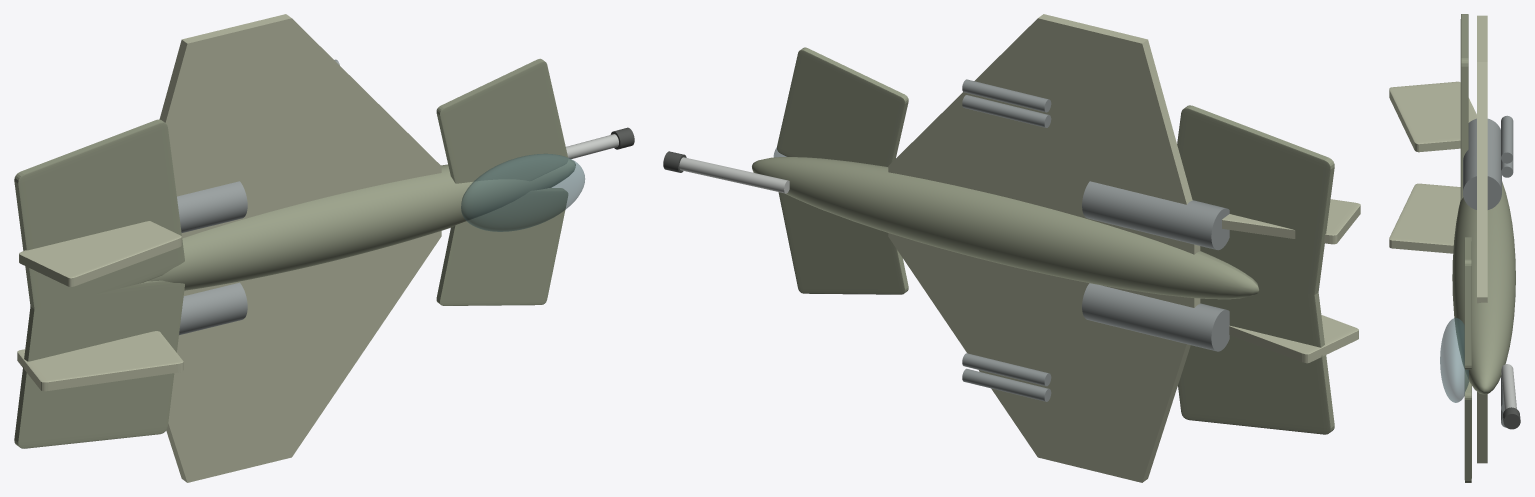
File: v-x04-vanguard-aero-lod1.glb
The picture shows the model from 3 angles, left to right: view 1: azimuth 30°, elevation 25°; view 2: azimuth 150°, elevation 25°; view 3: azimuth 270°, elevation 25°; orthographic projection. The views are drawn at different scales.
Parts seen in each view (by area): view 1: combat_main_wing, combat_fuselage, combat_tailplane_1, combat_tailplane_-1, canard_1, canard_-1, combat_canopy, combat_fin_-1, combat_fin_1, combat_engine_1, combat_engine_0, combat_gun_barrel_0; view 2: combat_main_wing, combat_fuselage, combat_tailplane_1, combat_tailplane_-1, canard_1, canard_-1, combat_engine_0, combat_engine_1, combat_fin_-1, combat_fin_1, combat_gun_barrel_0, combat_-1_tube_2 (+3 smaller); view 3: combat_fuselage, combat_fin_1, combat_main_wing, combat_fin_-1, combat_engine_1, combat_canopy, combat_tailplane_1, canard_1, canard_-1, combat_1_tube_2, combat_gun_barrel_0, combat_gun_muzzle_0 (+1 smaller).
Boxes of the visible parts, box(x1,y1,x2,y2) form: combat_main_wing: box(159, 14, 441, 482); combat_fuselage: box(147, 159, 575, 290); combat_tailplane_1: box(14, 119, 184, 314); combat_tailplane_-1: box(14, 280, 184, 448); canard_1: box(436, 58, 568, 183); canard_-1: box(436, 188, 567, 305); combat_canopy: box(461, 153, 584, 231); combat_fin_-1: box(17, 331, 183, 391); combat_fin_1: box(19, 221, 181, 286); combat_engine_1: box(177, 181, 247, 232); combat_engine_0: box(179, 282, 247, 335); combat_gun_barrel_0: box(566, 134, 618, 158); combat_main_wing: box(888, 14, 1200, 482); combat_fuselage: box(752, 157, 1259, 299); combat_tailplane_1: box(1177, 105, 1334, 299); combat_tailplane_-1: box(1178, 281, 1334, 434); canard_1: box(777, 47, 908, 166); canard_-1: box(778, 192, 908, 294); combat_engine_0: box(1082, 283, 1229, 351); combat_engine_1: box(1082, 181, 1229, 250); combat_fin_-1: box(1229, 315, 1358, 363); combat_fin_1: box(1222, 199, 1360, 244); combat_gun_barrel_0: box(679, 157, 789, 193); combat_-1_tube_2: box(962, 353, 1051, 386); combat_fuselage: box(1452, 181, 1515, 394); combat_fin_1: box(1389, 81, 1476, 152); combat_main_wing: box(1477, 15, 1487, 463); combat_fin_-1: box(1389, 183, 1460, 253); combat_engine_1: box(1463, 118, 1501, 209); combat_canopy: box(1440, 318, 1469, 402); combat_tailplane_1: box(1460, 14, 1468, 200); canard_1: box(1464, 237, 1471, 369); canard_-1: box(1464, 372, 1471, 482); combat_1_tube_2: box(1501, 115, 1513, 163); combat_gun_barrel_0: box(1501, 364, 1516, 409); combat_gun_muzzle_0: box(1503, 407, 1520, 429).
Size of what is drawn, in the model's own units: 16.05 by 10.53 by 3.12.
